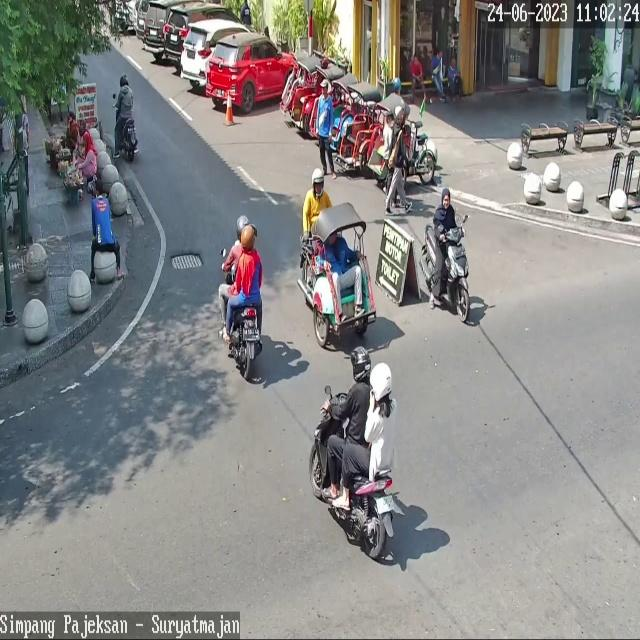bus: (310, 391, 396, 559), (419, 225, 473, 323), (228, 305, 263, 378), (119, 117, 140, 162)
motorcycle: (206, 33, 300, 112), (163, 4, 246, 64), (181, 21, 252, 87), (143, 0, 169, 53)
